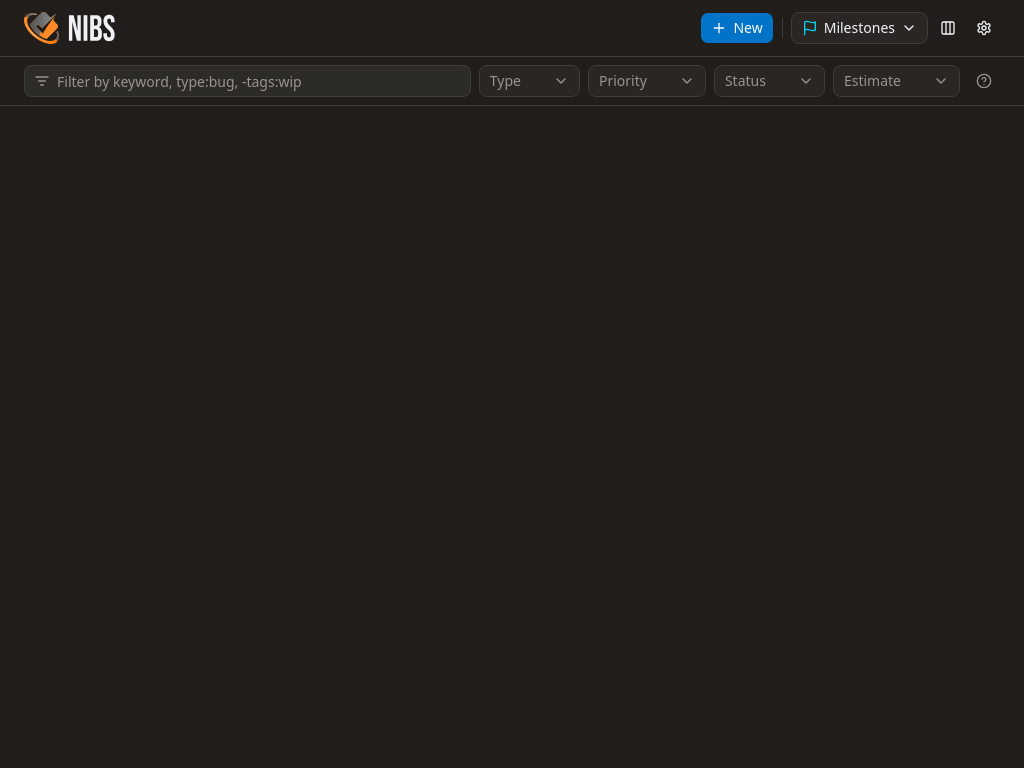
Test: Toolbar › gear button opens the Settings sheet revealing Appearance and Row density
The image size is (1024, 768).
Click the button named "Settings" at (984, 28), box [968,12,1000,44]
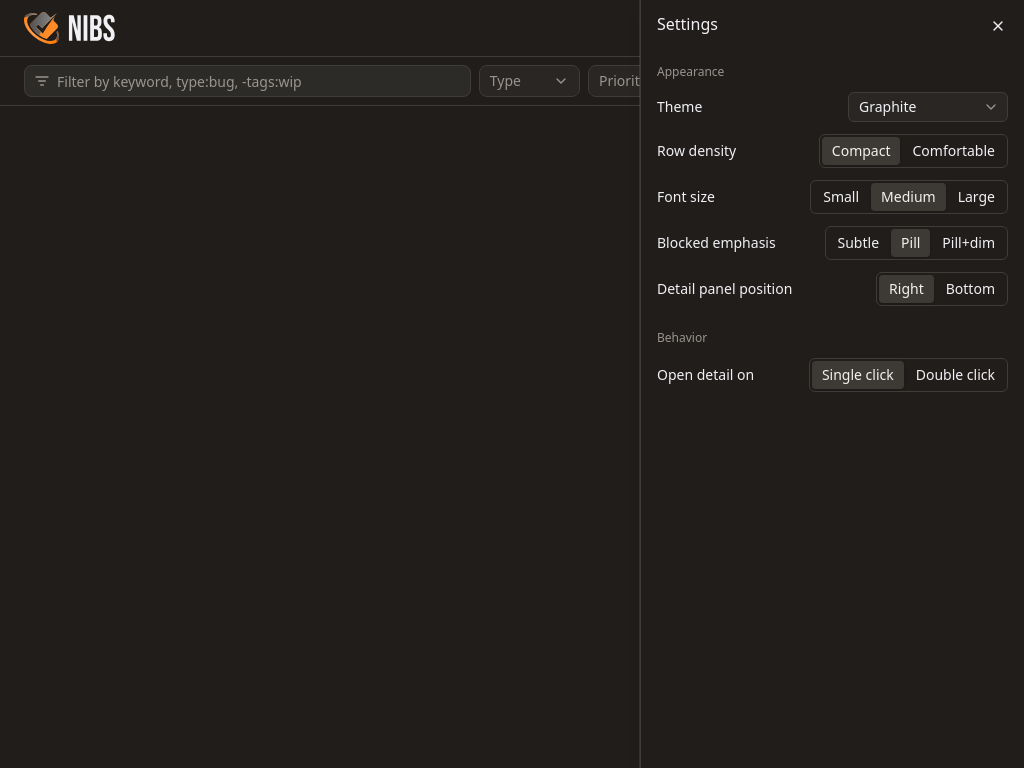
Result: the heading "Appearance" is shown at [657,63,724,80]
Result: the element named "row density" is shown at [819,134,1008,168]
Result: the radio button labelled "Compact" is shown at [822,137,900,165]
